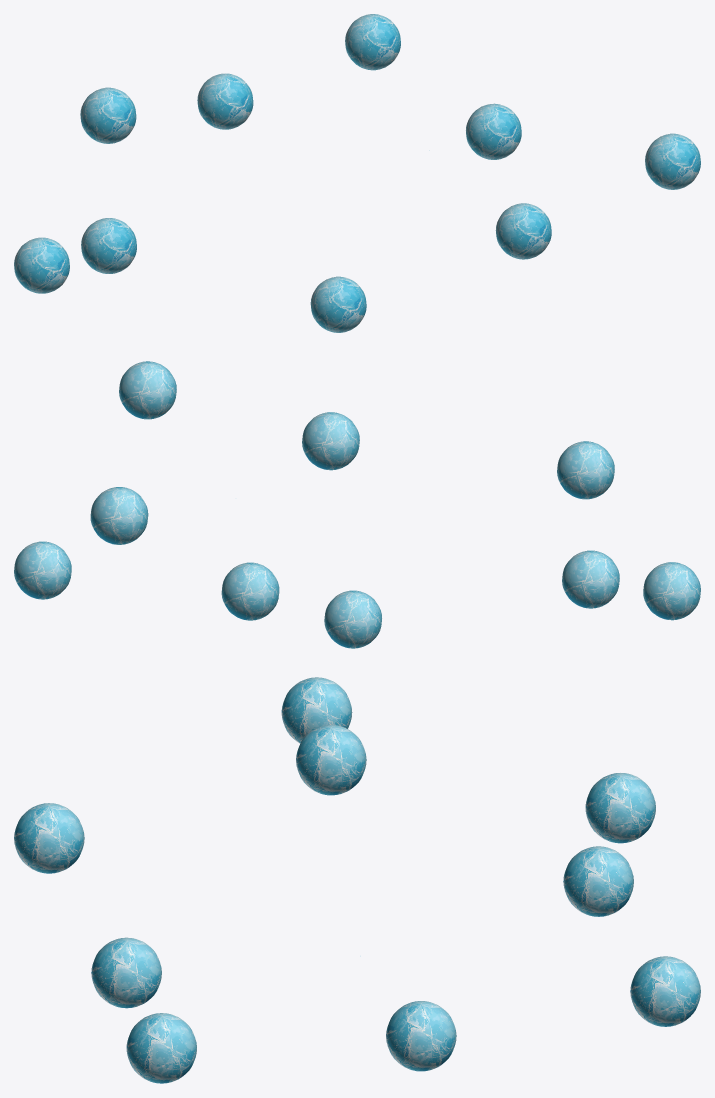
File: ice_blocks.glb
3 renders of one model, top to bottom at view 1: azimuth 30°, elevation 25°; view 2: azimuth 150°, elevation 25°; view 3: azimuth 270°, elevation 25°, orthographic. The views are drawn at different scales.
Visible parts, largest first — view 1: pSphere2.006, pSphere2.008, pSphere2.002, pSphere2.007, pSphere2.004, pSphere2.003, pSphere2.001, pSphere2, pSphere2.005; view 2: pSphere2.006, pSphere2.003, pSphere2.004, pSphere2.008, pSphere2.002, pSphere2.005, pSphere2.001, pSphere2.007, pSphere2; view 3: pSphere2, pSphere2.001, pSphere2.004, pSphere2.005, pSphere2.002, pSphere2.003, pSphere2.006, pSphere2.007, pSphere2.008.
Part boxes in pixels (x1=…): pSphere2.006: x1=197, y1=73, x2=253, y2=129; pSphere2.008: x1=14, y1=237, x2=69, y2=293; pSphere2.002: x1=495, y1=203, x2=551, y2=259; pSphere2.007: x1=80, y1=87, x2=136, y2=143; pSphere2.004: x1=645, y1=133, x2=700, y2=189; pSphere2.003: x1=310, y1=276, x2=366, y2=332; pSphere2.001: x1=345, y1=14, x2=400, y2=70; pSphere2: x1=466, y1=103, x2=521, y2=159; pSphere2.005: x1=81, y1=218, x2=136, y2=273; pSphere2.006: x1=221, y1=562, x2=279, y2=620; pSphere2.003: x1=557, y1=441, x2=614, y2=499; pSphere2.004: x1=119, y1=361, x2=176, y2=419; pSphere2.008: x1=643, y1=562, x2=700, y2=620; pSphere2.002: x1=302, y1=412, x2=359, y2=470; pSphere2.005: x1=562, y1=550, x2=619, y2=608; pSphere2.001: x1=14, y1=541, x2=71, y2=599; pSphere2.007: x1=324, y1=590, x2=381, y2=648; pSphere2: x1=90, y1=487, x2=148, y2=544; pSphere2: x1=386, y1=1001, x2=456, y2=1071; pSphere2.001: x1=630, y1=956, x2=700, y2=1026; pSphere2.004: x1=126, y1=1013, x2=196, y2=1083; pSphere2.005: x1=296, y1=725, x2=366, y2=795; pSphere2.002: x1=91, y1=937, x2=161, y2=1008; pSphere2.003: x1=14, y1=803, x2=84, y2=873; pSphere2.006: x1=563, y1=846, x2=633, y2=916; pSphere2.007: x1=585, y1=773, x2=655, y2=843; pSphere2.008: x1=281, y1=677, x2=352, y2=743.
Bounding box in the file's own units: 33.97 × 4.39 × 26.07.
1 material, 1 textured.
